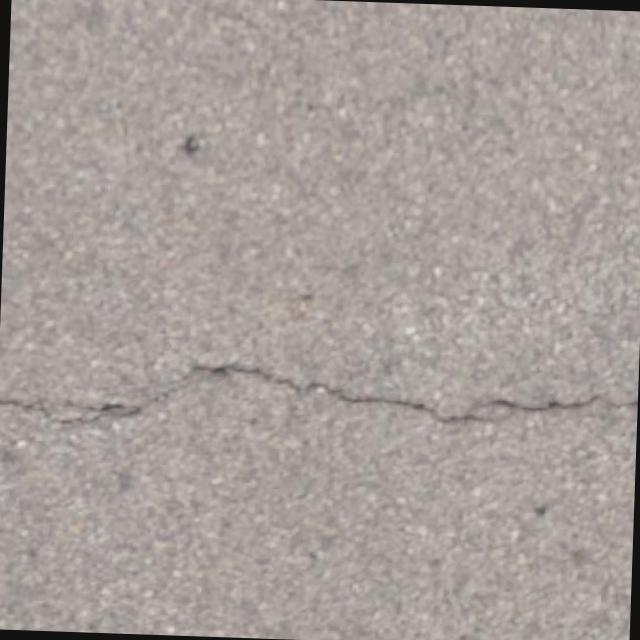Retak-Melintang: (0, 363, 637, 431)
